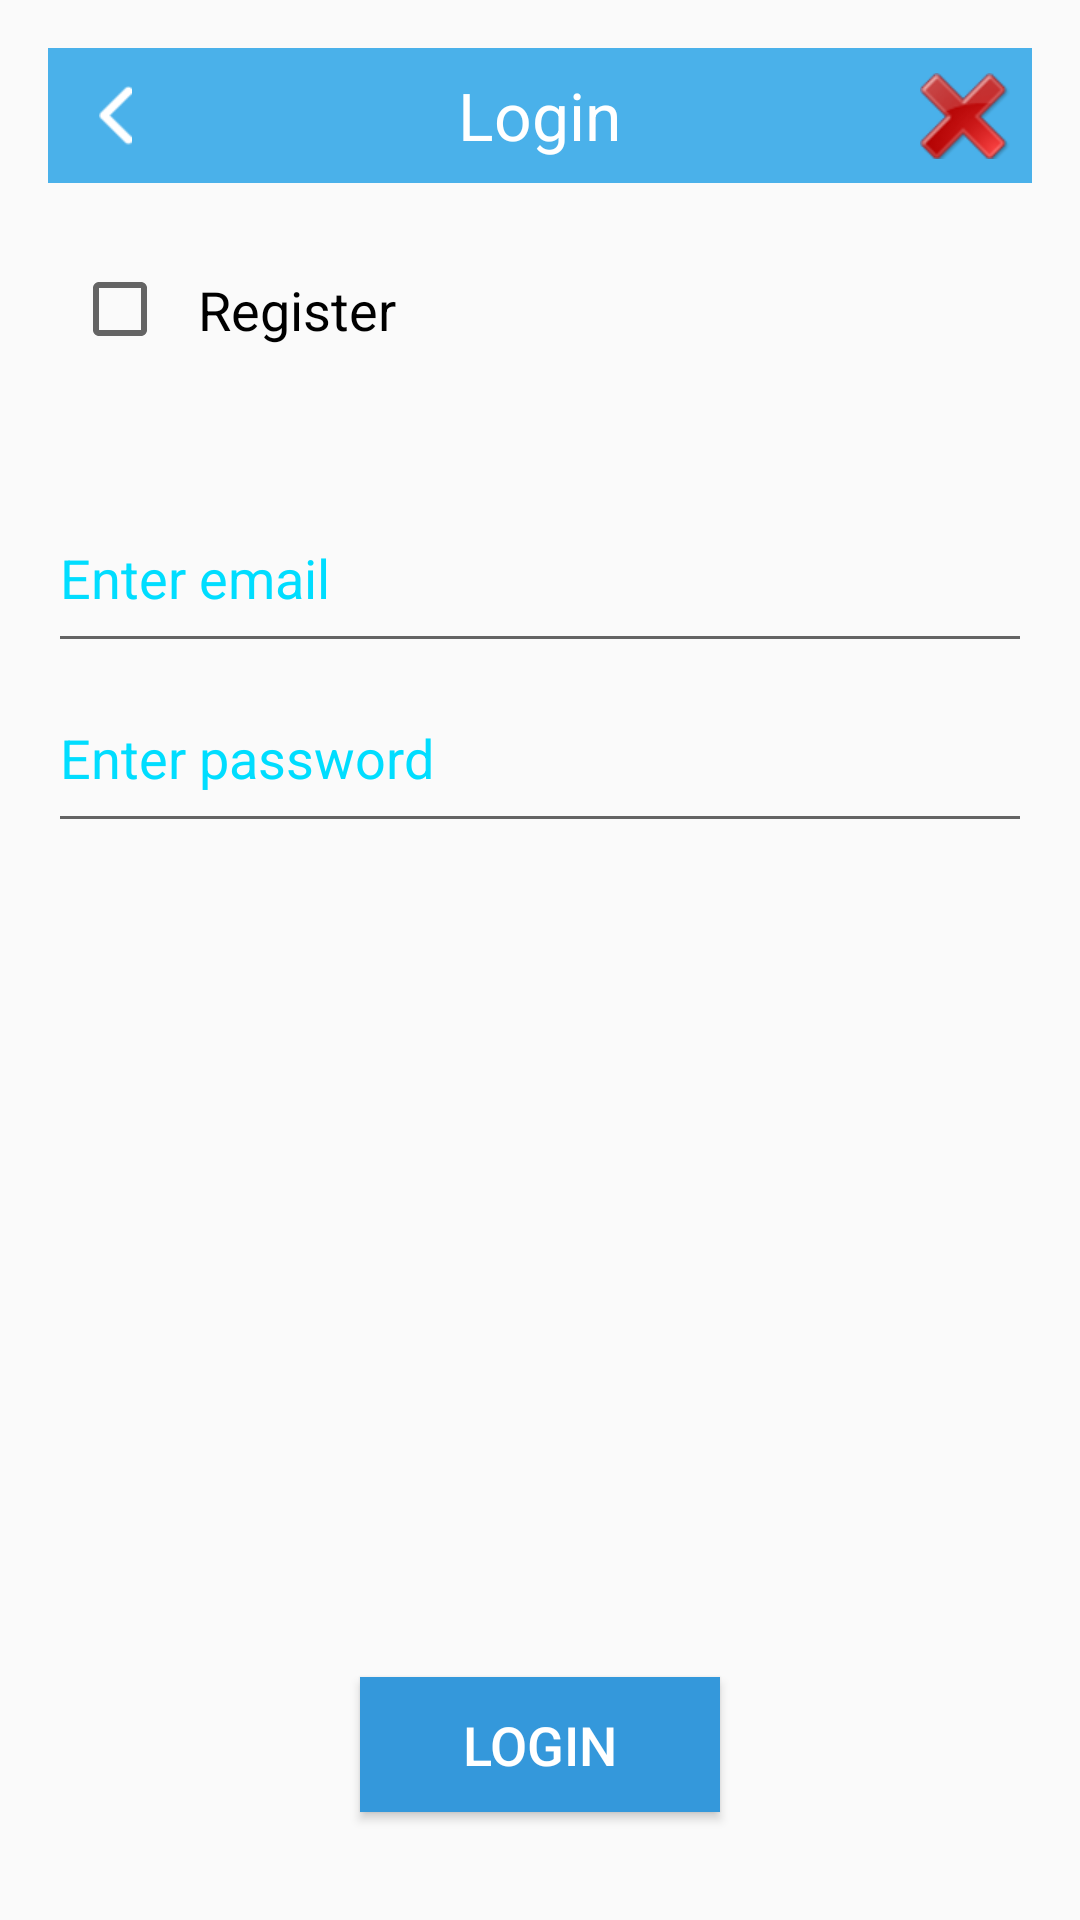

Named icons in this screenshot (1080*1920) and their bounding boxes, (x1, y1, x2, y2):
delete: (897, 48, 1032, 183)
navbar back: (48, 48, 183, 183)
